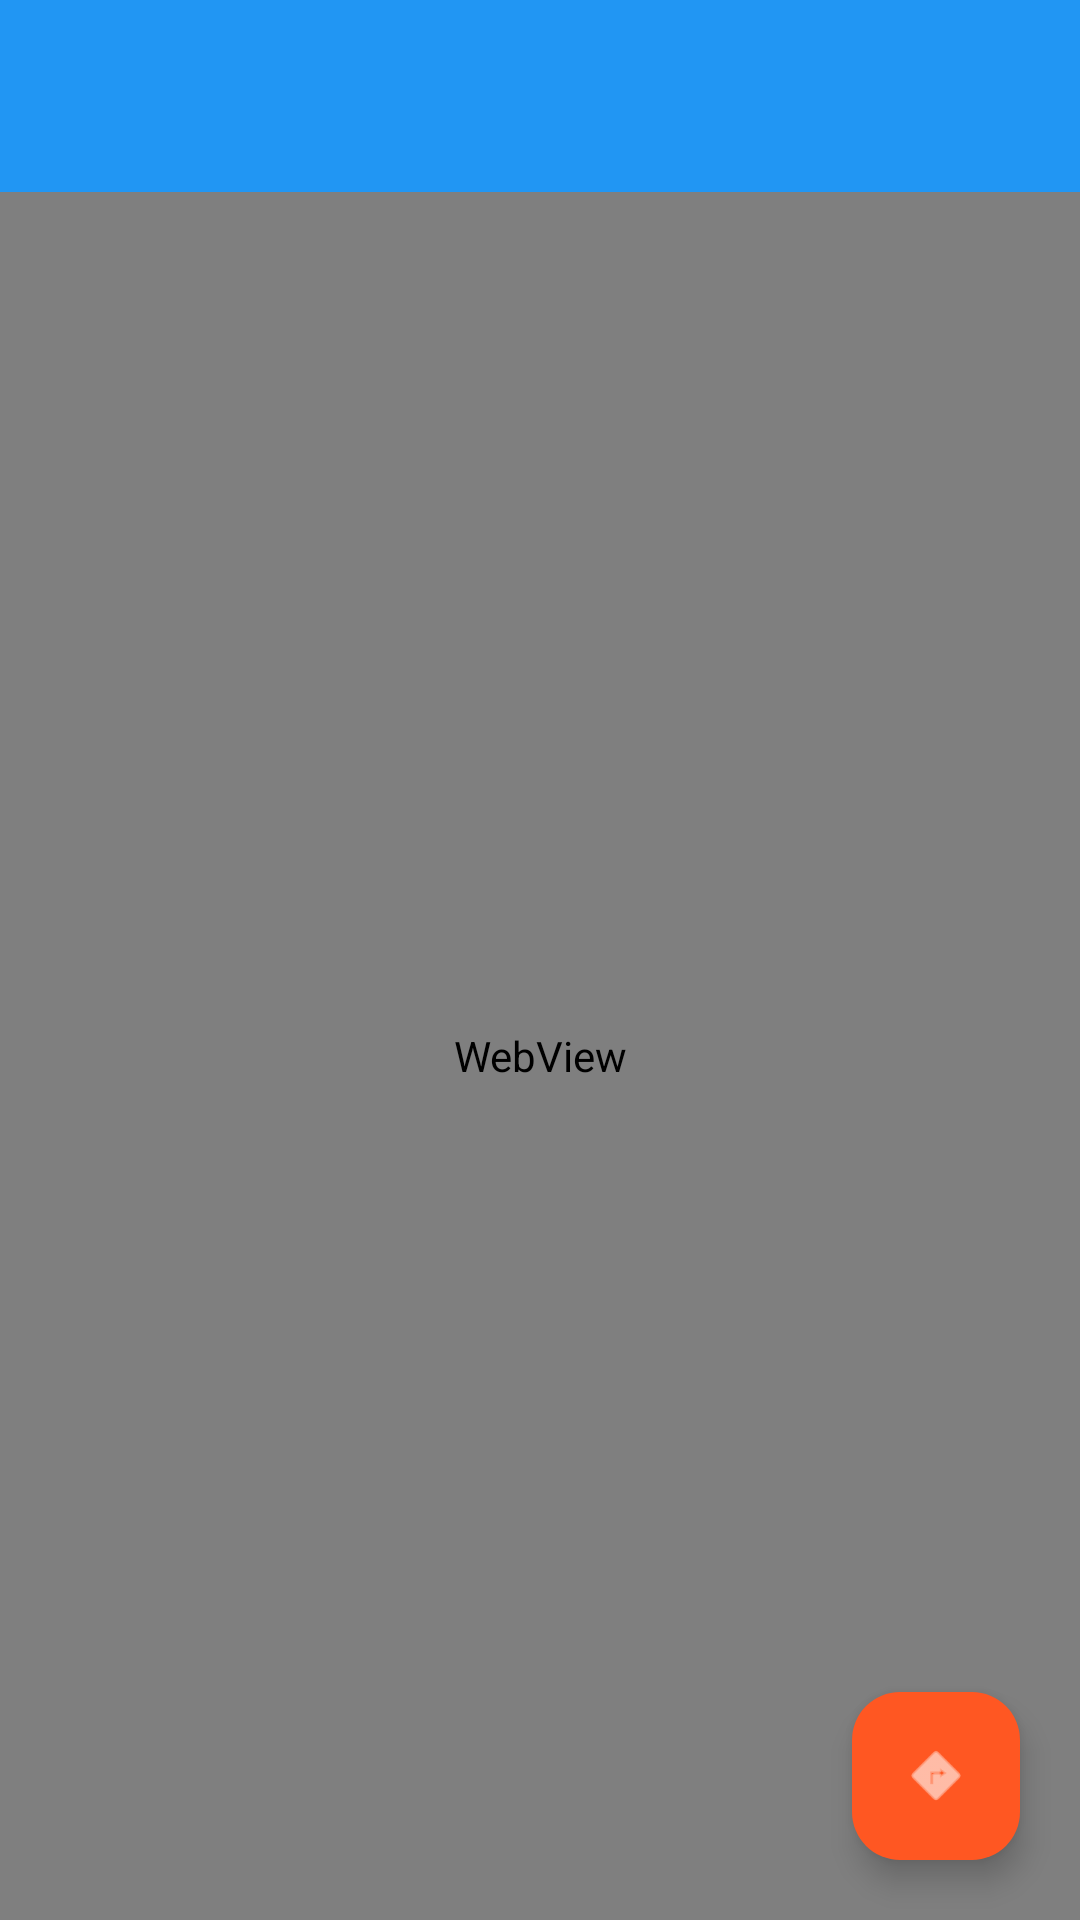

Icon click points for this 1080×1920 phone screenshot, format point (x, y):
directions: point (936, 1776)
